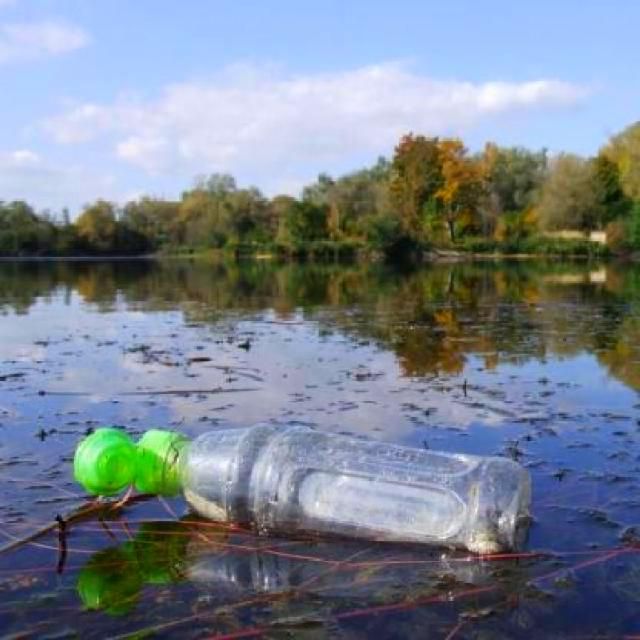Plastic: (69, 422, 530, 556)
